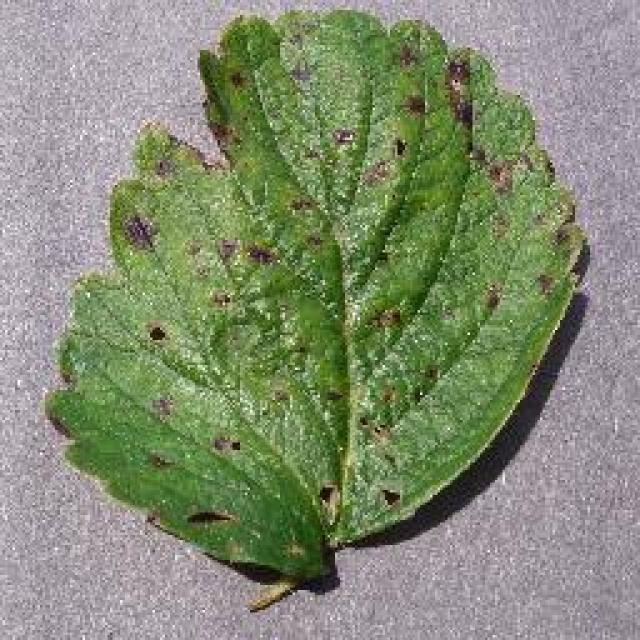Strawberry leaf scorch: (138, 50, 494, 487)
